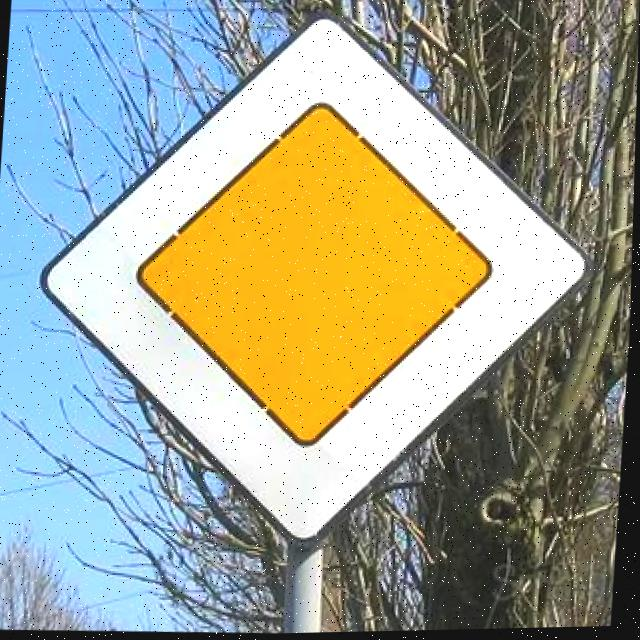signs: (26, 0, 610, 567)
